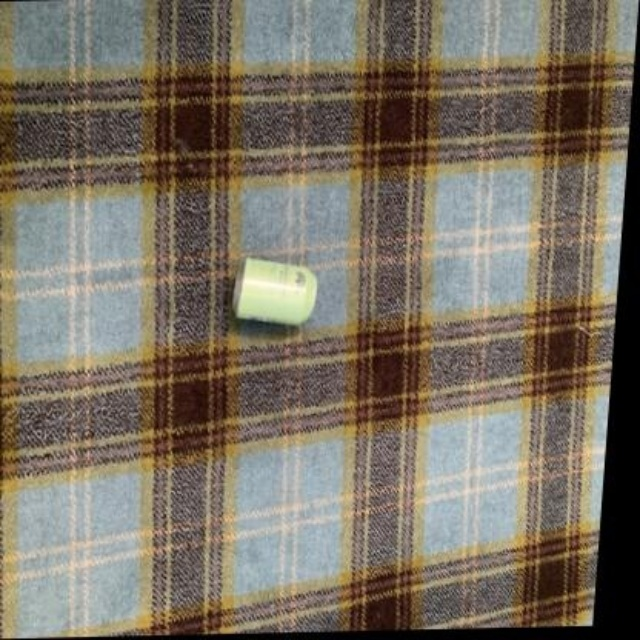trash: (232, 257, 315, 325)
